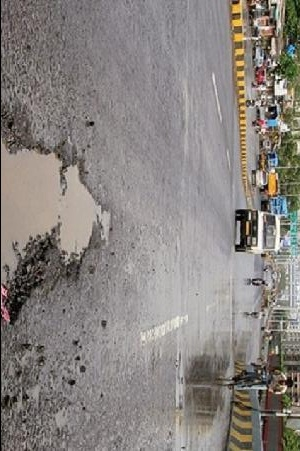pothole: (0, 102, 105, 327)
